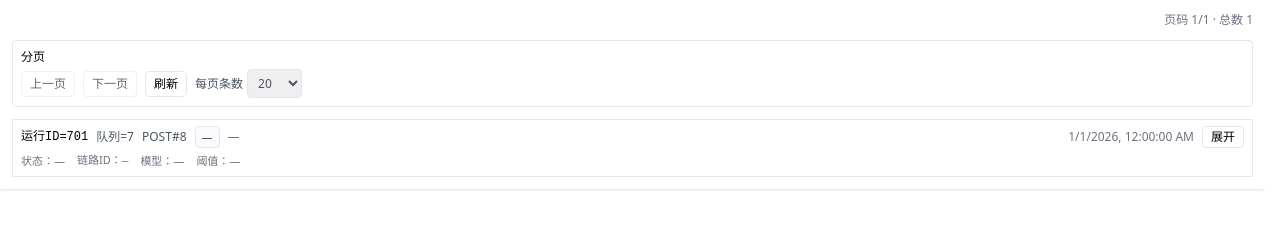
Test case: ModerationPipelineHistoryPanel › 在当前 stageFilter 下无 steps 时显示空提示
expect the text "运行ID=701" is shown: met, box [21,129,88,145]
expect the button "运行ID=701" is shown: met, box [12,119,1253,176]
Click the button "展开" at {"x": 1223, "y": 137}, box [1202,126,1244,148]
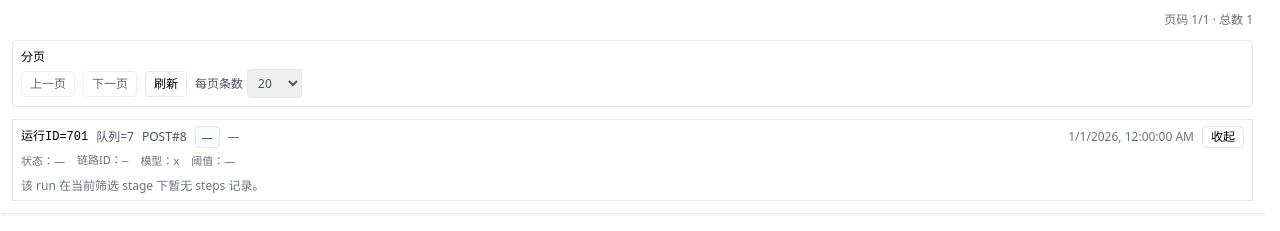
expect the text "该 run 在当前筛选 stage 下暂无 steps 记录。" is shown: met, box [21,176,264,194]
